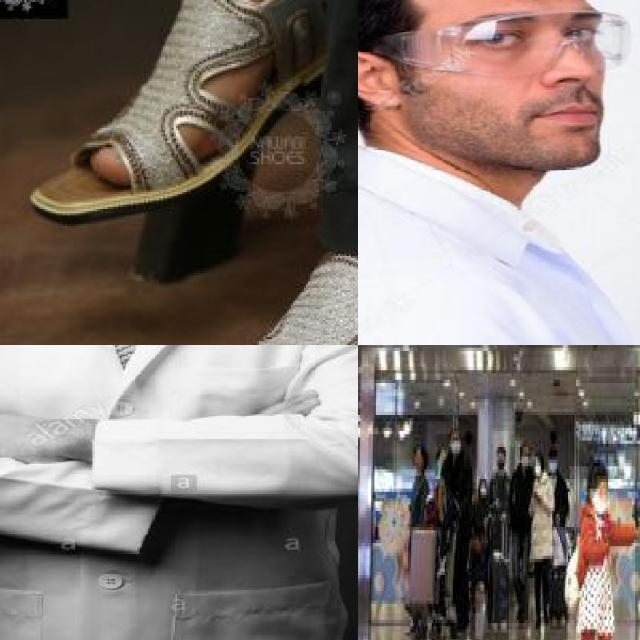No_Ear-Protection: (358, 47, 408, 110)
Sandals: (143, 230, 358, 345)
face_mask: (590, 482, 606, 514), (450, 434, 460, 457), (520, 447, 530, 469), (496, 450, 504, 470), (533, 456, 541, 476), (547, 457, 557, 472), (480, 482, 486, 495)
face_nomask: (471, 8, 619, 132), (413, 447, 421, 469)
glasses: (358, 6, 633, 72)
head_nohelmet: (587, 456, 610, 488)
person: (0, 345, 358, 640), (358, 0, 640, 345), (569, 466, 636, 640), (437, 434, 477, 640), (510, 447, 534, 626), (533, 441, 555, 626), (493, 431, 510, 633)
